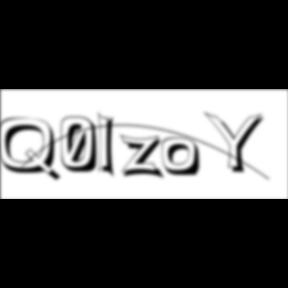0: (60, 115, 106, 174)
I: (98, 110, 122, 182)
Q: (0, 117, 64, 184)
Y: (204, 110, 270, 176)
o: (161, 137, 203, 179)
z: (120, 134, 170, 182)
